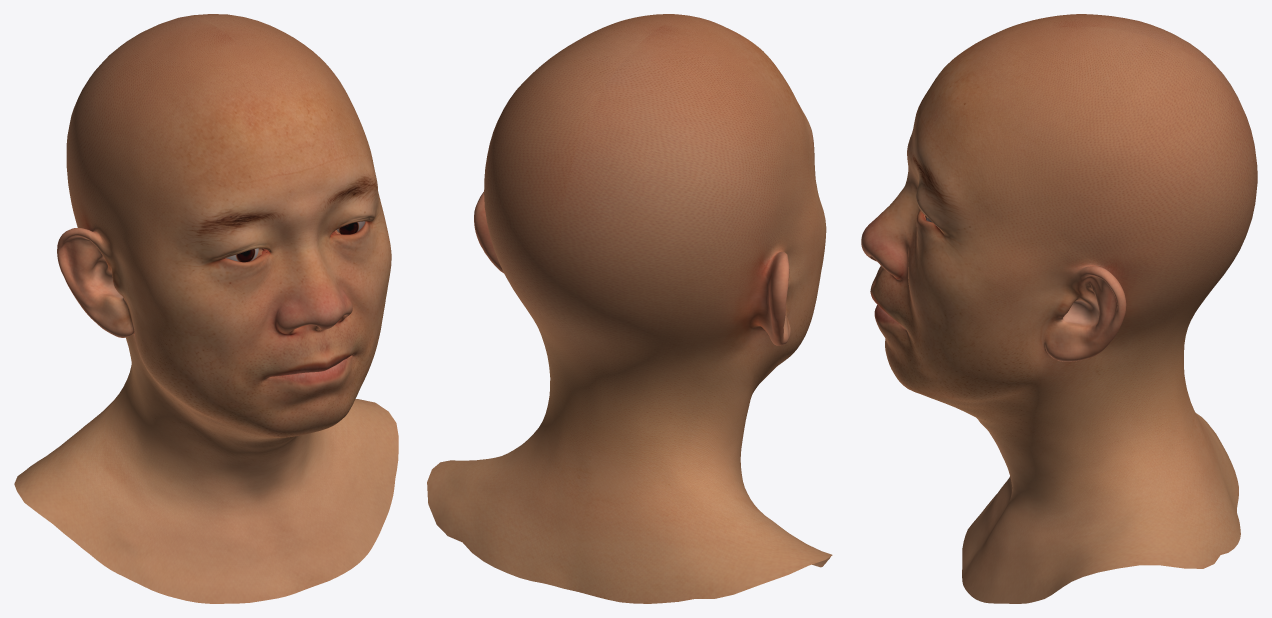
3 renders of one model, left to right at view 1: azimuth 30°, elevation 25°; view 2: azimuth 150°, elevation 25°; view 3: azimuth 270°, elevation 25°, orthographic. The views are drawn at different scales.
Parts seen in each view (by area): view 1: Registered head; view 2: Registered head; view 3: Registered head.
Boxes of the visible parts, x1=… form: Registered head: x1=14, y1=14, x2=398, y2=603; Registered head: x1=427, y1=14, x2=832, y2=603; Registered head: x1=861, y1=14, x2=1257, y2=603.
Size of the model in its own units: 1.33 by 1.82 by 1.22.
Materials: 3 (3 with a texture image).
